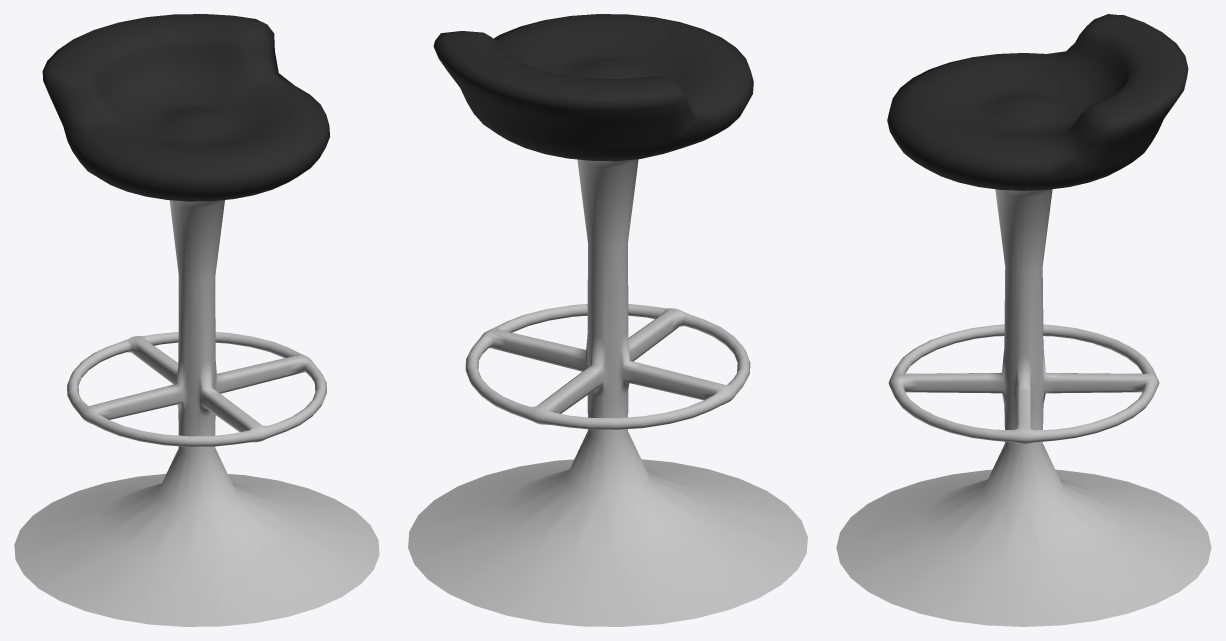
Rendered from Stool.FBX.
3 views of the same model, side by side, from view 1: azimuth 30°, elevation 25°; view 2: azimuth 150°, elevation 25°; view 3: azimuth 270°, elevation 25° (orthographic). The views are drawn at different scales.
Parts seen in each view (by area): view 1: Cylinder001; view 2: Cylinder001; view 3: Cylinder001.
Boxes of the visible parts, <box> form: Cylinder001: <box>14,14,379,626</box>; Cylinder001: <box>408,14,807,626</box>; Cylinder001: <box>836,14,1211,626</box>.
Bounding box in the file's own units: 38.62 × 55.03 × 38.62.
1 material, 1 textured.
